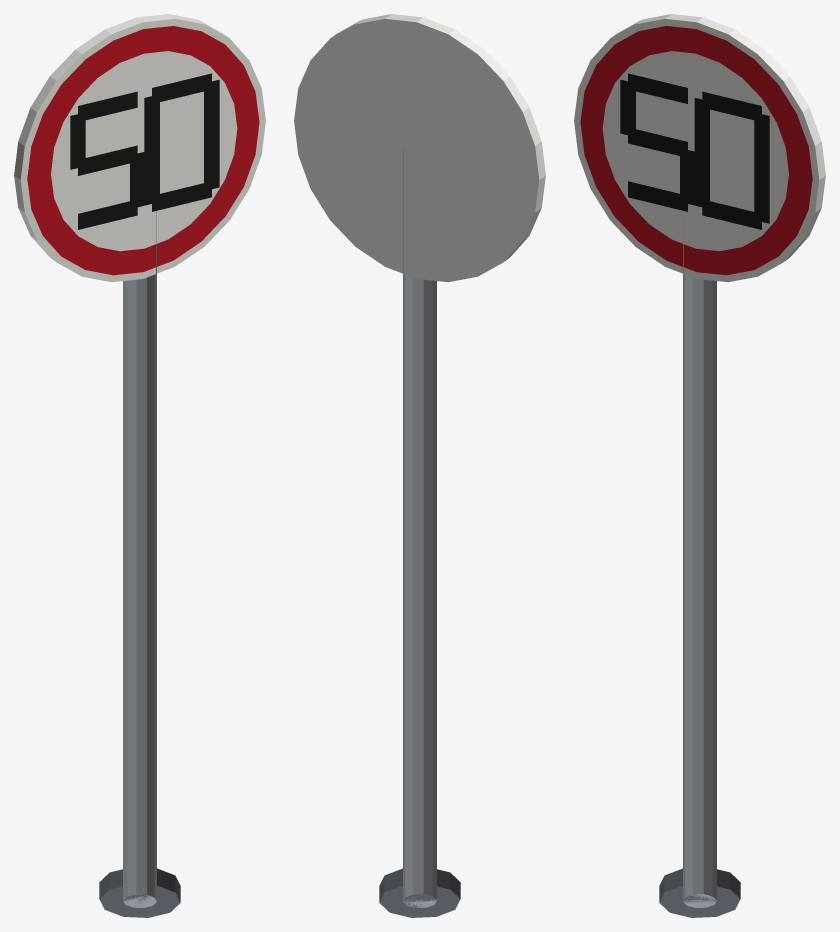
The model's file is sign-speed-50.glb.
The picture shows the model from 3 angles, left to right: view 1: azimuth 30°, elevation 25°; view 2: azimuth 150°, elevation 25°; view 3: azimuth 330°, elevation 25°; orthographic projection.
Parts seen in each view (by area): view 1: sign-speed-50; view 2: sign-speed-50; view 3: sign-speed-50.
Part boxes in pixels (left/top/right/bottom): sign-speed-50: left=14, top=14, right=265, bottom=917; sign-speed-50: left=294, top=14, right=545, bottom=917; sign-speed-50: left=574, top=14, right=825, bottom=917.
Size of the model in its own units: 0.75 by 2.58 by 0.2054.
